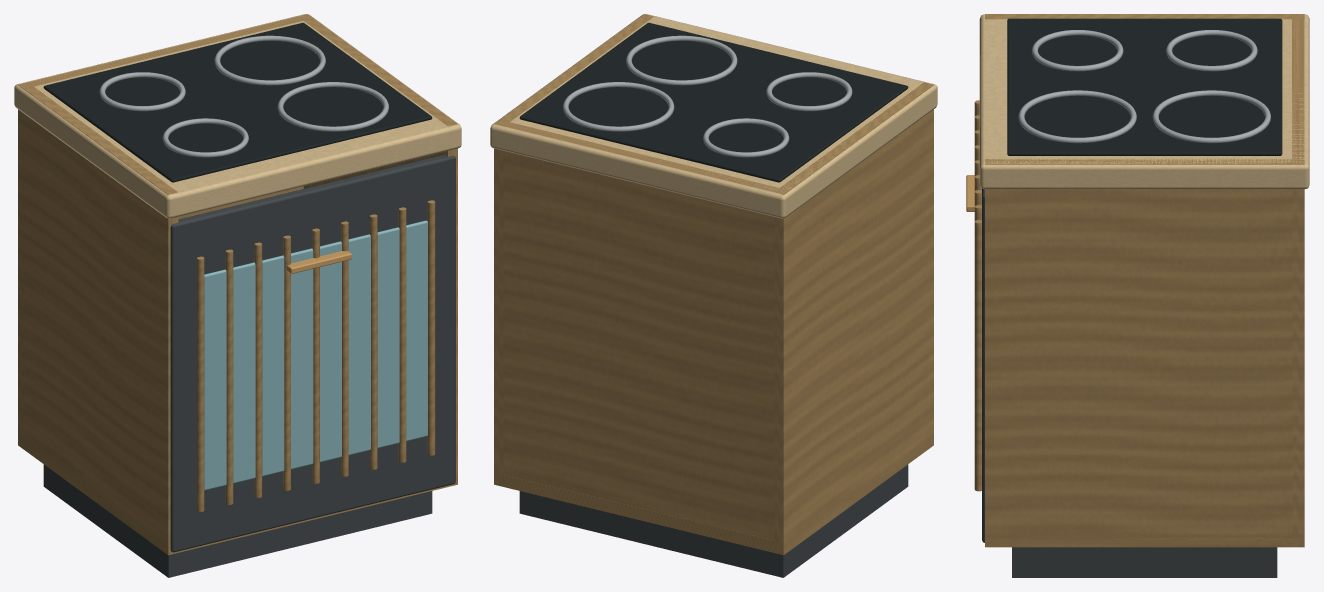
The model's file is stove_veranda-d28410660c60.glb.
3 renders of one model, left to right at view 1: azimuth 30°, elevation 25°; view 2: azimuth 150°, elevation 25°; view 3: azimuth 270°, elevation 25°, orthographic. The views are drawn at different scales.
Visible parts, largest first — view 1: surface_bamboo, surface_graphite, surface_glass, surface_black, surface_plaster, surface_steel, surface_brass; view 2: surface_bamboo, surface_black, surface_plaster, surface_graphite, surface_steel; view 3: surface_bamboo, surface_black, surface_plaster, surface_graphite, surface_steel.
Part boxes in pixels (left/top/right/bottom): surface_bamboo: left=18, top=14, right=457, bottom=555; surface_graphite: left=43, top=154, right=455, bottom=577; surface_glass: left=204, top=220, right=427, bottom=490; surface_black: left=43, top=22, right=432, bottom=182; surface_plaster: left=14, top=14, right=461, bottom=218; surface_steel: left=99, top=35, right=388, bottom=157; surface_brass: left=287, top=251, right=351, bottom=273; surface_bamboo: left=494, top=14, right=933, bottom=555; surface_black: left=519, top=22, right=908, bottom=182; surface_plaster: left=490, top=14, right=937, bottom=218; surface_graphite: left=519, top=464, right=908, bottom=577; surface_steel: left=563, top=35, right=852, bottom=157; surface_bamboo: left=974, top=14, right=1304, bottom=547; surface_black: left=1007, top=18, right=1282, bottom=155; surface_plaster: left=979, top=14, right=1309, bottom=189; surface_graphite: left=982, top=188, right=1277, bottom=577; surface_steel: left=1018, top=30, right=1270, bottom=143.
Size of the model in its own units: 0.704 by 0.9169 by 0.6663.
Materials: 7 (2 with a texture image).
